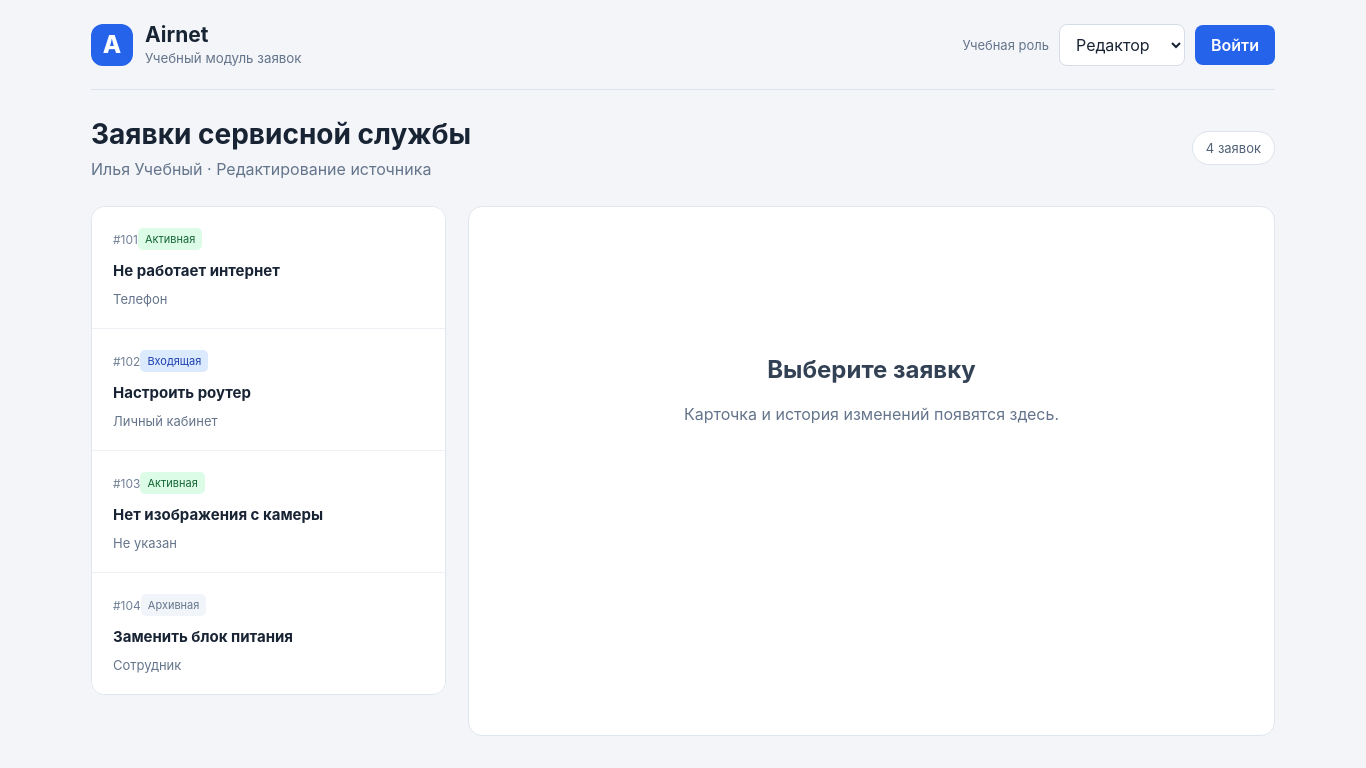
Карточка заявки › ошибка загрузки карточки показывается
This screenshot has width=1366, height=768.
Click the button "#101 Активная Не работает интернет Телефон" at (268, 268), box left=92, top=207, right=445, bottom=329
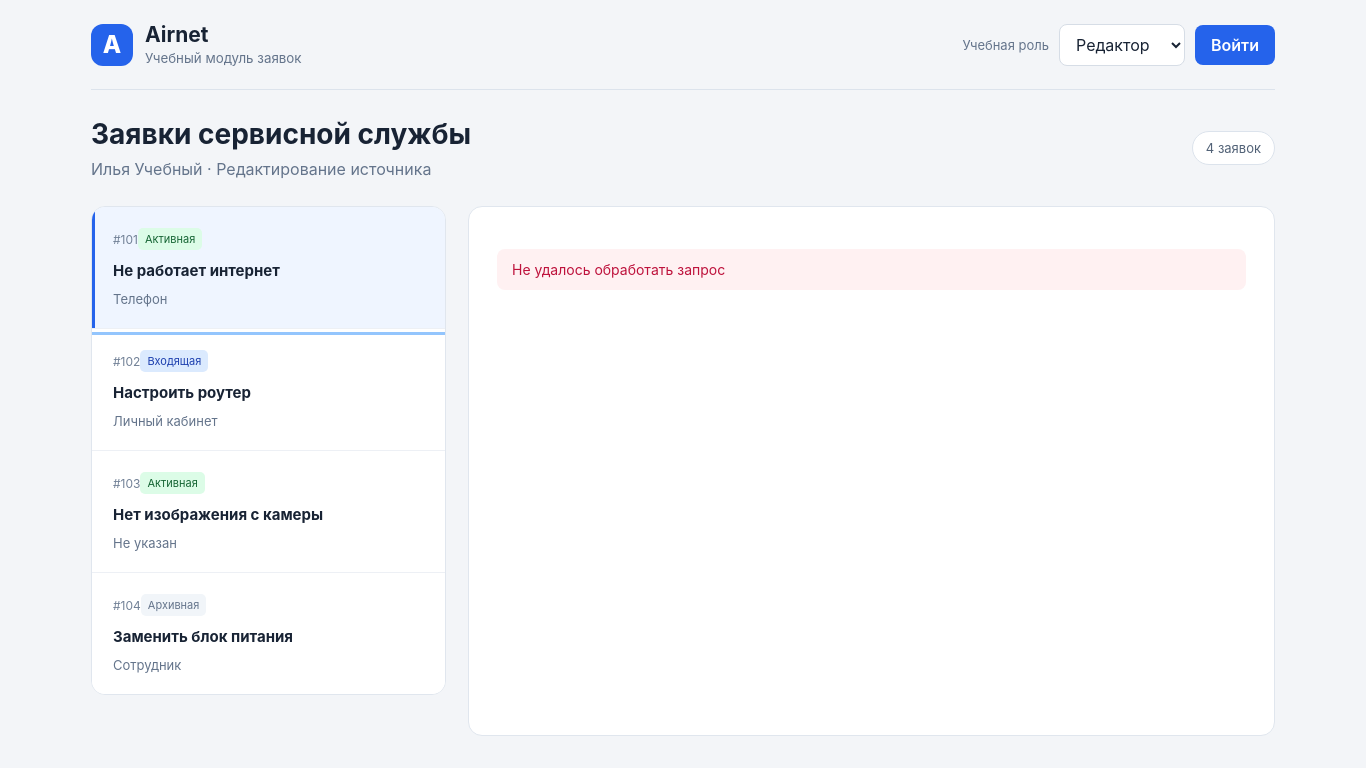
Expected: the message reads "Не удалось обработать запрос", left=512, top=261, right=725, bottom=278
